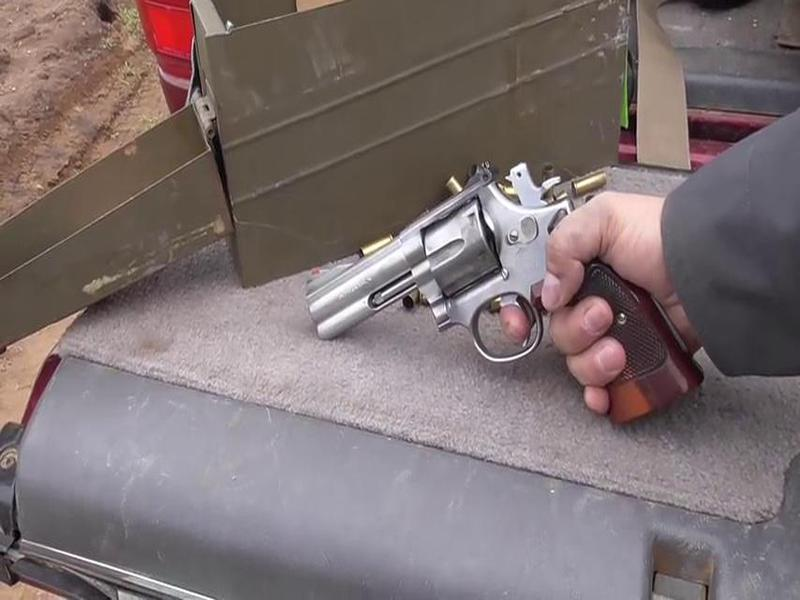Revolver: (291, 169, 638, 426)
